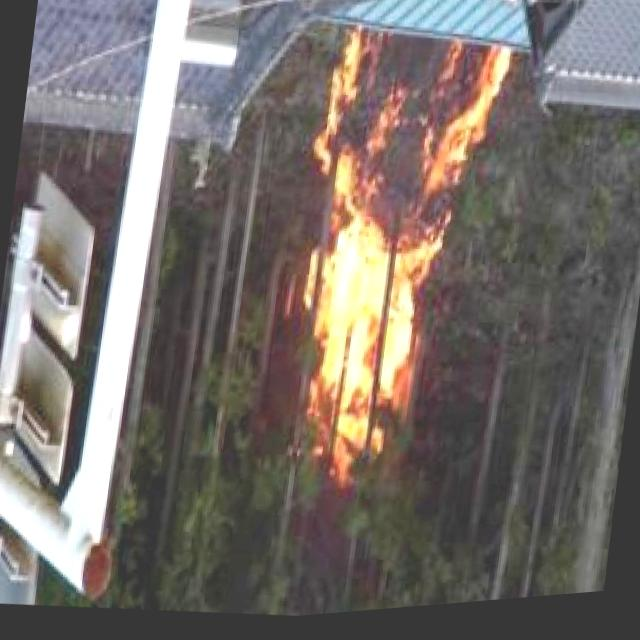helmet: (271, 21, 512, 495)
